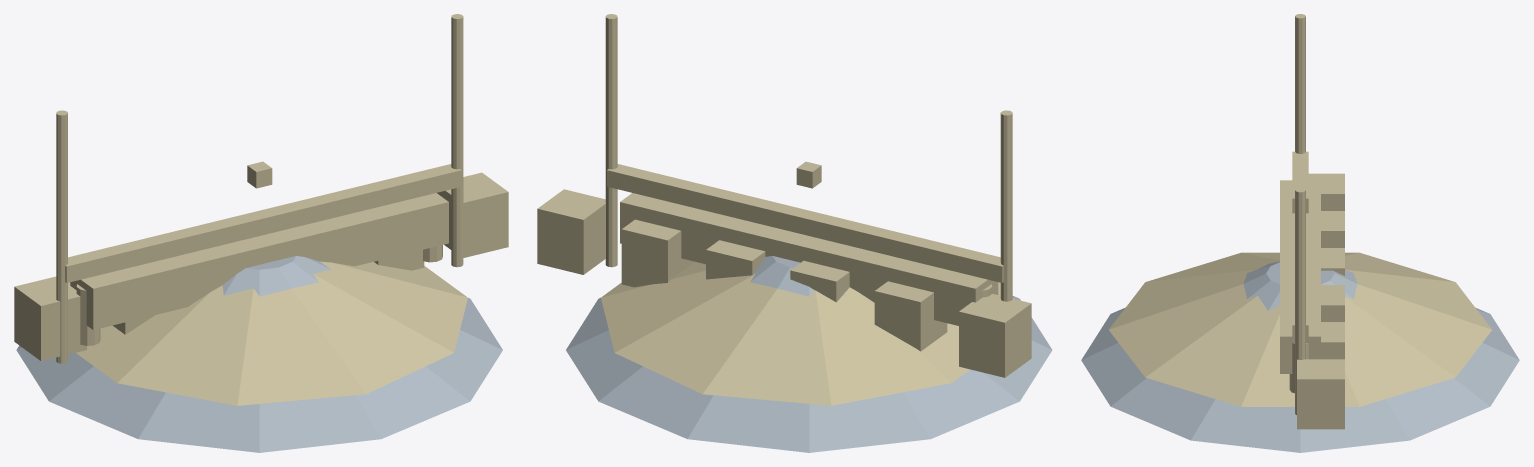
The model's file is quarry_stone.glb.
3 views of the same model, side by side, from view 1: azimuth 30°, elevation 25°; view 2: azimuth 150°, elevation 25°; view 3: azimuth 270°, elevation 25° (orthographic). The views are drawn at different scales.
Visible parts, largest first — view 1: galian_mouth.001, galian_doa.001, galian_beam.001, galian_mesk_0.001, galian_mesk_1.001, galian_blok_0.001, galian_blok_5.001, galian_lereng_0R.001, galian_lereng_0.001, galian_tiang_0.001, galian_blok_4.001, galian_hook.001; view 2: galian_mouth.001, galian_doa.001, galian_beam.001, galian_mesk_0.001, galian_mesk_1.001, galian_blok_0.001, galian_blok_5.001, galian_blok_4.001, galian_blok_1.001, galian_lereng_0R.001, galian_lereng_0.001, galian_blok_3.001 (+2 smaller); view 3: galian_mouth.001, galian_doa.001, galian_blok_5.001, galian_mesk_1.001, galian_lereng_0R.001, galian_mesk_0.001, galian_lereng_0.001, galian_beam.001, galian_blok_0.001, galian_blok_4.001, galian_blok_1.001, galian_blok_3.001 (+1 smaller).
Part boxes in pixels (x1,y1,x2,y2): galian_mouth.001: [76, 261, 467, 405]; galian_doa.001: [16, 256, 502, 452]; galian_beam.001: [65, 164, 461, 282]; galian_mesk_0.001: [70, 233, 290, 329]; galian_mesk_1.001: [239, 193, 448, 266]; galian_blok_0.001: [14, 276, 86, 360]; galian_blok_5.001: [437, 172, 508, 257]; galian_lereng_0R.001: [451, 14, 463, 267]; galian_lereng_0.001: [56, 110, 67, 363]; galian_tiang_0.001: [76, 284, 100, 345]; galian_blok_4.001: [374, 250, 424, 270]; galian_hook.001: [247, 161, 272, 188]; galian_mouth.001: [601, 261, 1000, 405]; galian_doa.001: [566, 256, 1052, 452]; galian_beam.001: [607, 164, 1003, 282]; galian_mesk_0.001: [778, 237, 998, 325]; galian_mesk_1.001: [620, 193, 829, 264]; galian_blok_0.001: [959, 294, 1031, 377]; galian_blok_5.001: [537, 189, 605, 274]; galian_blok_4.001: [621, 219, 693, 287]; galian_blok_1.001: [874, 281, 947, 351]; galian_lereng_0R.001: [605, 14, 617, 267]; galian_lereng_0.001: [1000, 110, 1012, 301]; galian_blok_3.001: [706, 240, 765, 279]; galian_mouth.001: [1109, 252, 1491, 406]; galian_doa.001: [1081, 261, 1519, 452]; galian_blok_5.001: [1297, 359, 1344, 429]; galian_mesk_1.001: [1280, 249, 1320, 373]; galian_lereng_0R.001: [1295, 187, 1305, 414]; galian_mesk_0.001: [1280, 180, 1320, 249]; galian_lereng_0.001: [1295, 14, 1305, 153]; galian_beam.001: [1292, 151, 1308, 340]; galian_blok_0.001: [1308, 173, 1344, 210]; galian_blok_4.001: [1321, 322, 1344, 359]; galian_blok_1.001: [1321, 211, 1344, 247]; galian_blok_3.001: [1321, 285, 1344, 321].
Bounding box in the file's own units: 3.55 × 2.07 × 3.2.
